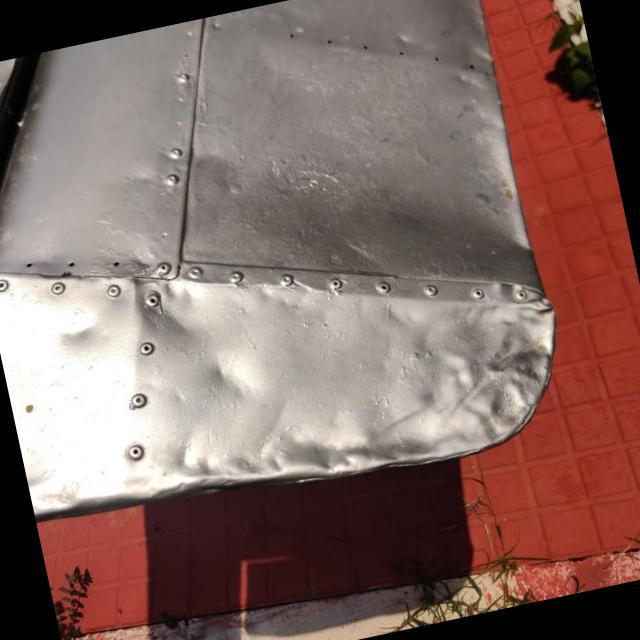Dent: (24, 384, 446, 554), (376, 266, 592, 474), (118, 264, 219, 366), (186, 332, 282, 424), (38, 294, 119, 372)
